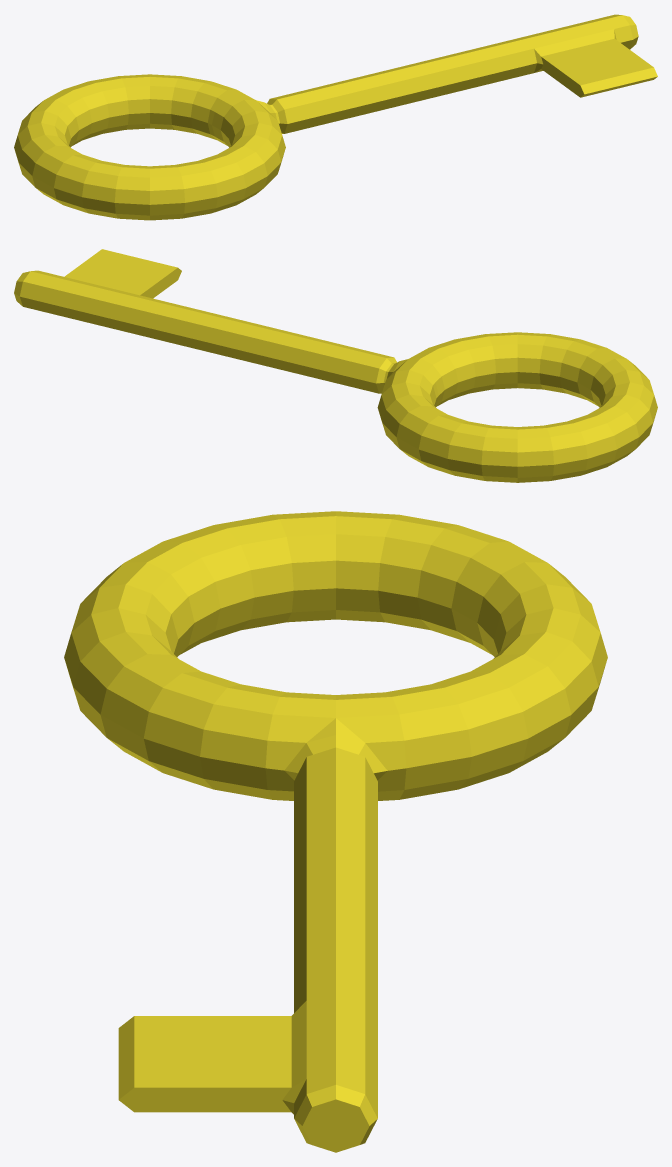
Rendered from goldenKey.fbx.
The picture shows the model from 3 angles, top to bottom: view 1: azimuth 30°, elevation 25°; view 2: azimuth 150°, elevation 25°; view 3: azimuth 270°, elevation 25°; orthographic projection. The views are drawn at different scales.
Visible parts, largest first — view 1: Torus.002; view 2: Torus.002; view 3: Torus.002.
Boxes of the visible parts, left/top/right/bottom form: Torus.002: left=14, top=14, right=657, bottom=220; Torus.002: left=14, top=249, right=657, bottom=482; Torus.002: left=64, top=511, right=607, bottom=1152.
Size of the model in its own units: 6.35 by 0.5 by 2.5.
